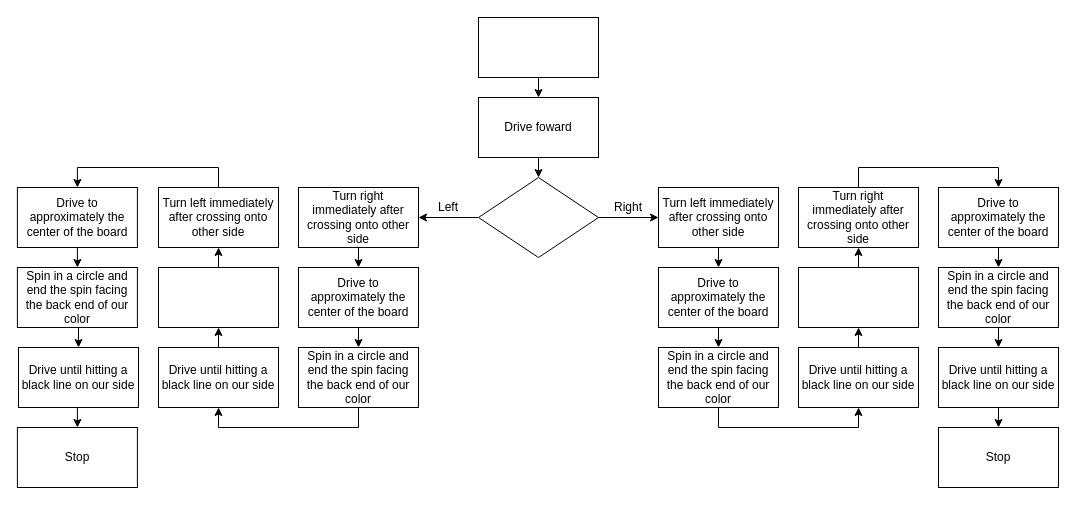
Some shapes in this 1077 by 505 pixel diagram are drawn without their labels. Each missing label, with the centre of its shape:
Start: point (538, 47)
Turn left and follow the black border: point (218, 297)
Turn right and follow the black border: point (858, 297)
Which QTI sensor triggered?: point (538, 217)
